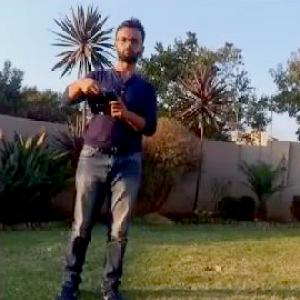follow: (48, 18, 162, 299)
